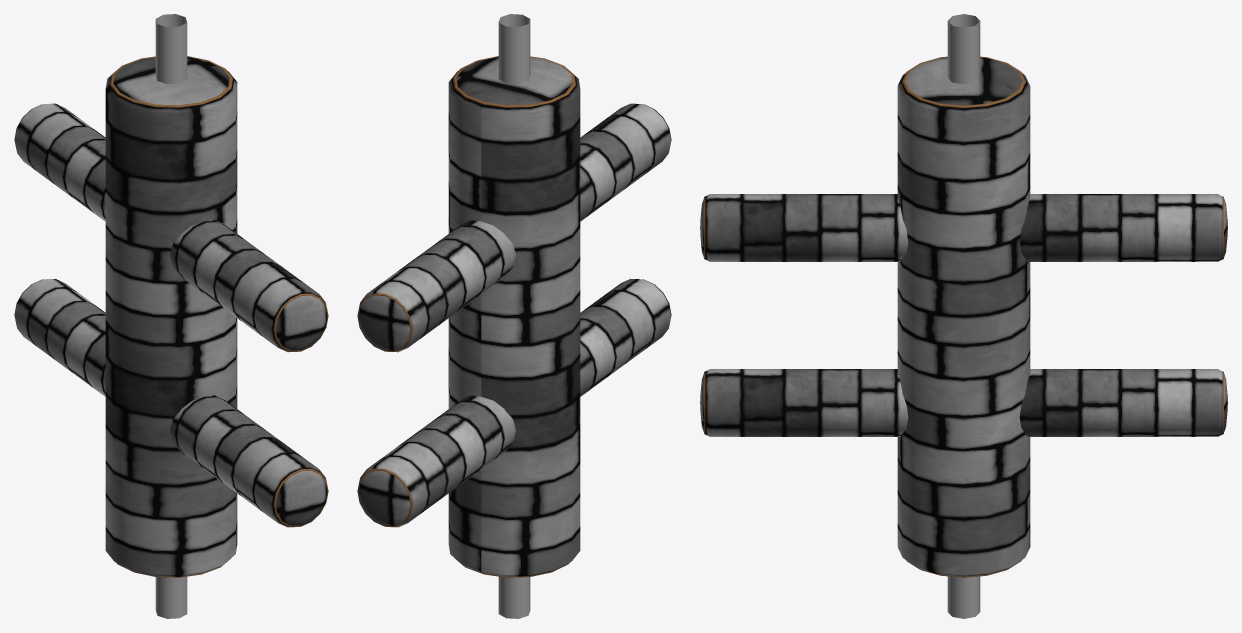
The model's file is SM_Obstacle_RotatingPillar.fbx.
3 views of the same model, side by side, from view 1: azimuth 30°, elevation 25°; view 2: azimuth 150°, elevation 25°; view 3: azimuth 270°, elevation 25° (orthographic).
Visible parts, largest first — view 1: SM_SoftFoam_FramePipe_2M18; view 2: SM_SoftFoam_FramePipe_2M18; view 3: SM_SoftFoam_FramePipe_2M18.
Part boxes in pixels (x1,y1,x2,y2): SM_SoftFoam_FramePipe_2M18: [14, 14, 328, 618]; SM_SoftFoam_FramePipe_2M18: [357, 14, 671, 618]; SM_SoftFoam_FramePipe_2M18: [700, 14, 1227, 618].
Size of the model in its own units: 40.77 by 200 by 162.
